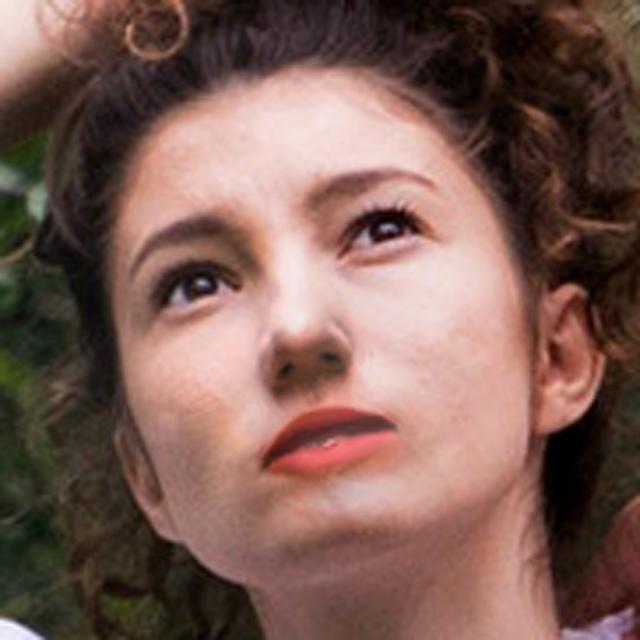face: (89, 82, 574, 595)
